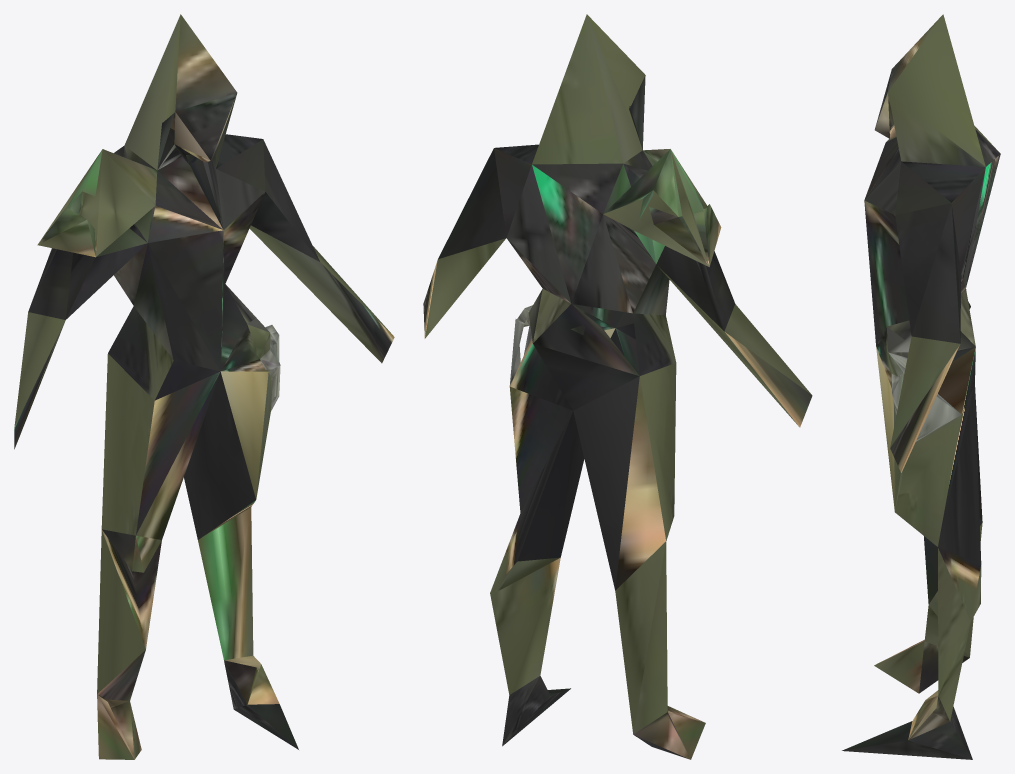
File: neon_wolf_lod2.glb
3 views of the same model, side by side, from view 1: azimuth 30°, elevation 25°; view 2: azimuth 150°, elevation 25°; view 3: azimuth 270°, elevation 25° (orthographic). The views are drawn at different scales.
Visible parts, largest first — view 1: Mesh_0; view 2: Mesh_0; view 3: Mesh_0.
Part boxes in pixels (bbox=[...]): Mesh_0: bbox=[14, 14, 394, 759]; Mesh_0: bbox=[423, 14, 812, 759]; Mesh_0: bbox=[842, 14, 1000, 759].
Bounding box in the file's own units: 1.06 × 1.92 × 0.3895.
1 material, 1 textured.
